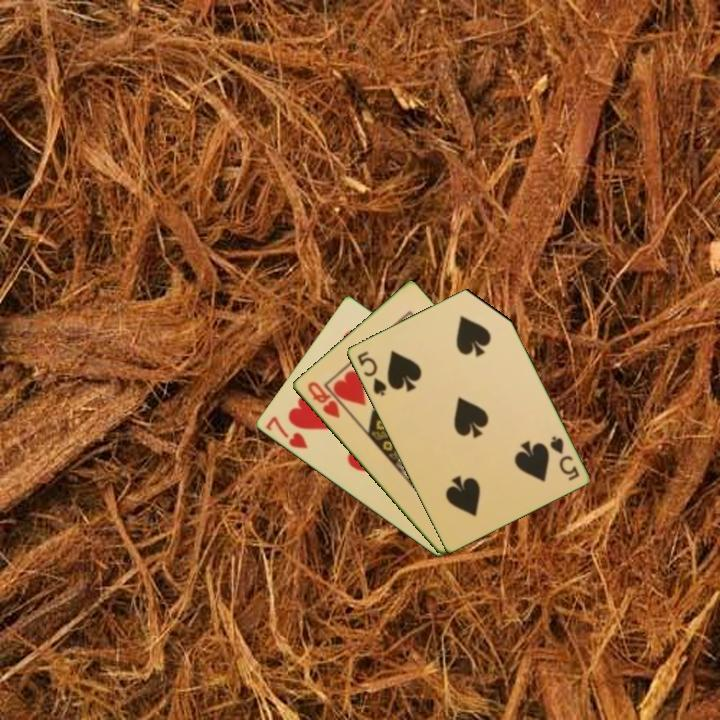5s: (353, 347, 389, 399), (546, 432, 582, 484)
7h: (262, 413, 310, 452)
Qh: (304, 378, 342, 421)
